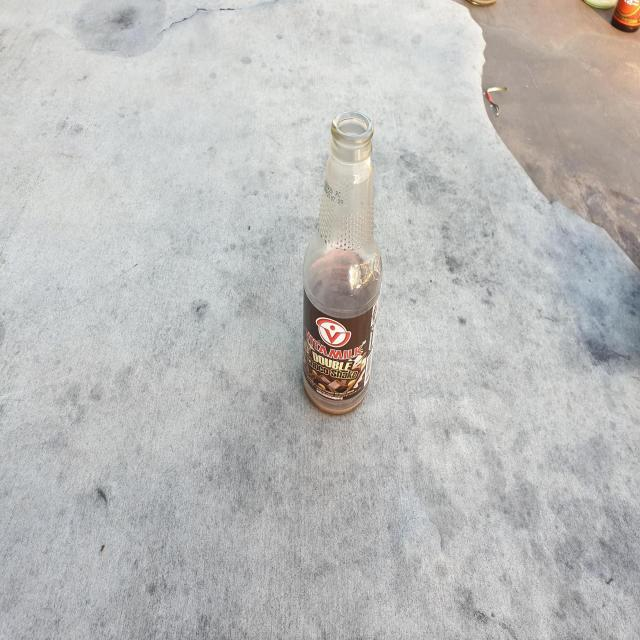glass: (303, 113, 383, 414)
